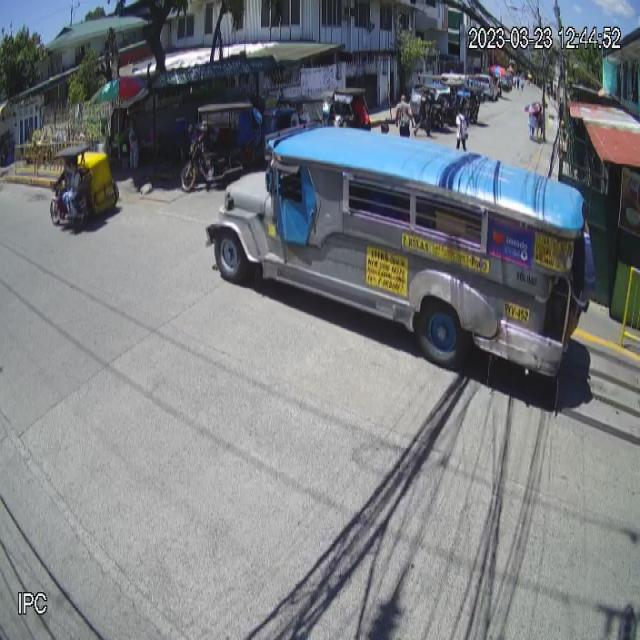Jeep: (205, 123, 588, 417)
Tricycle: (50, 146, 120, 226)
